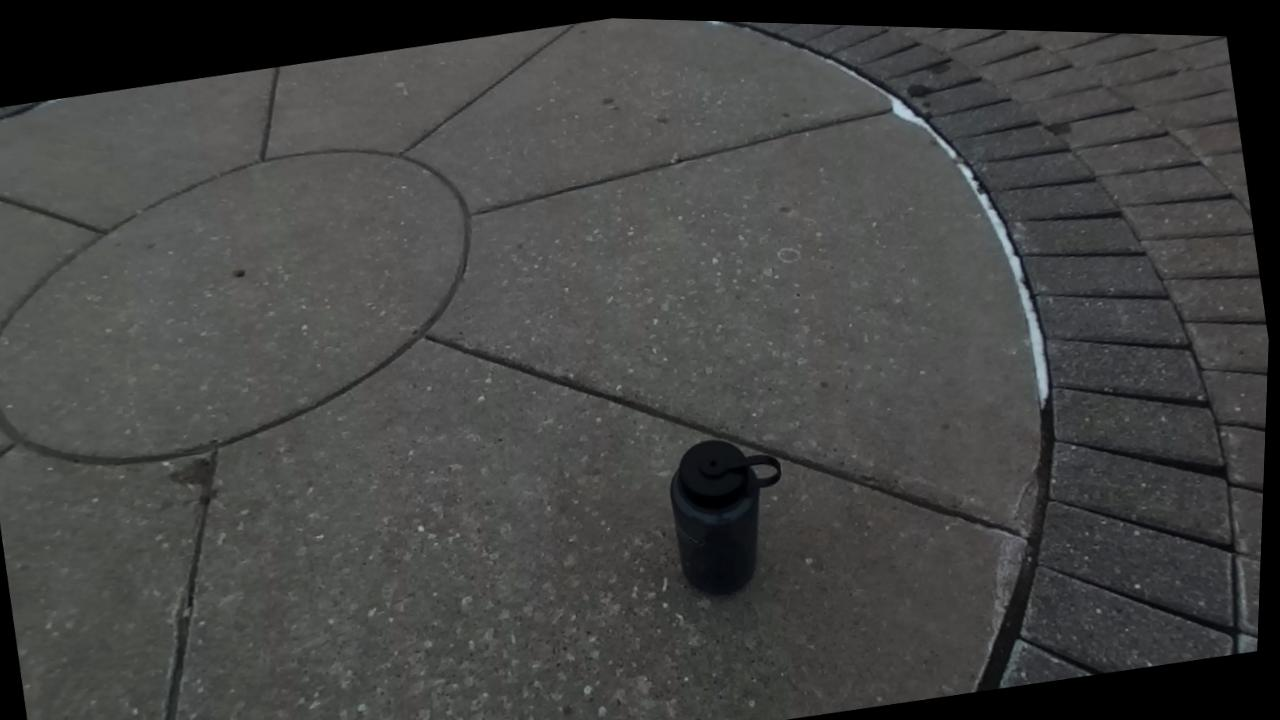bottle: (670, 440, 780, 593)
